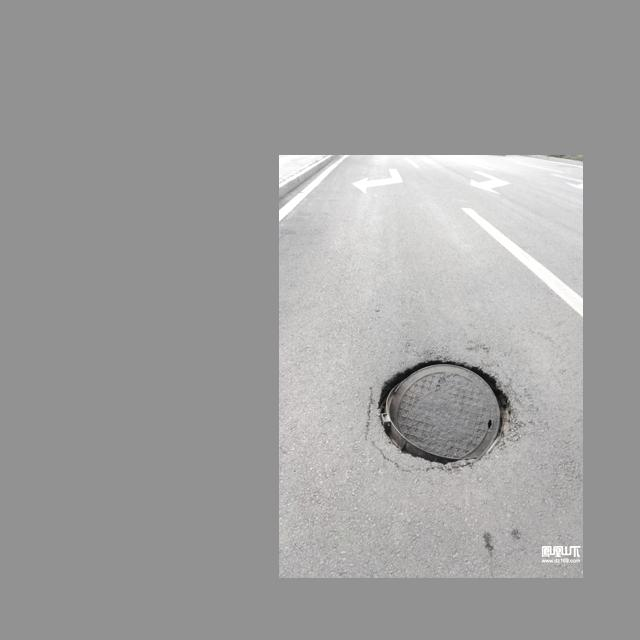circle: (356, 350, 526, 473)
